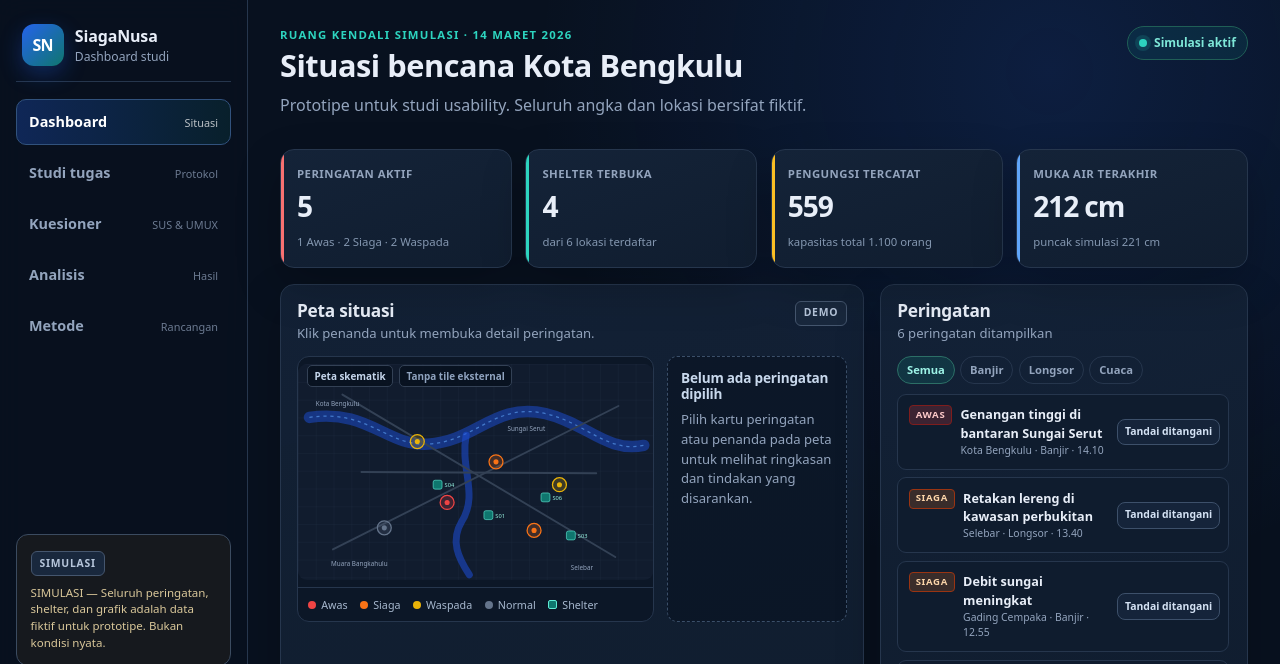
Test: study flow › navigates to the methods page
Click the button "Metode Rancangan" at {"x": 124, "y": 326}, box [16, 303, 231, 348]
(page scrolled)
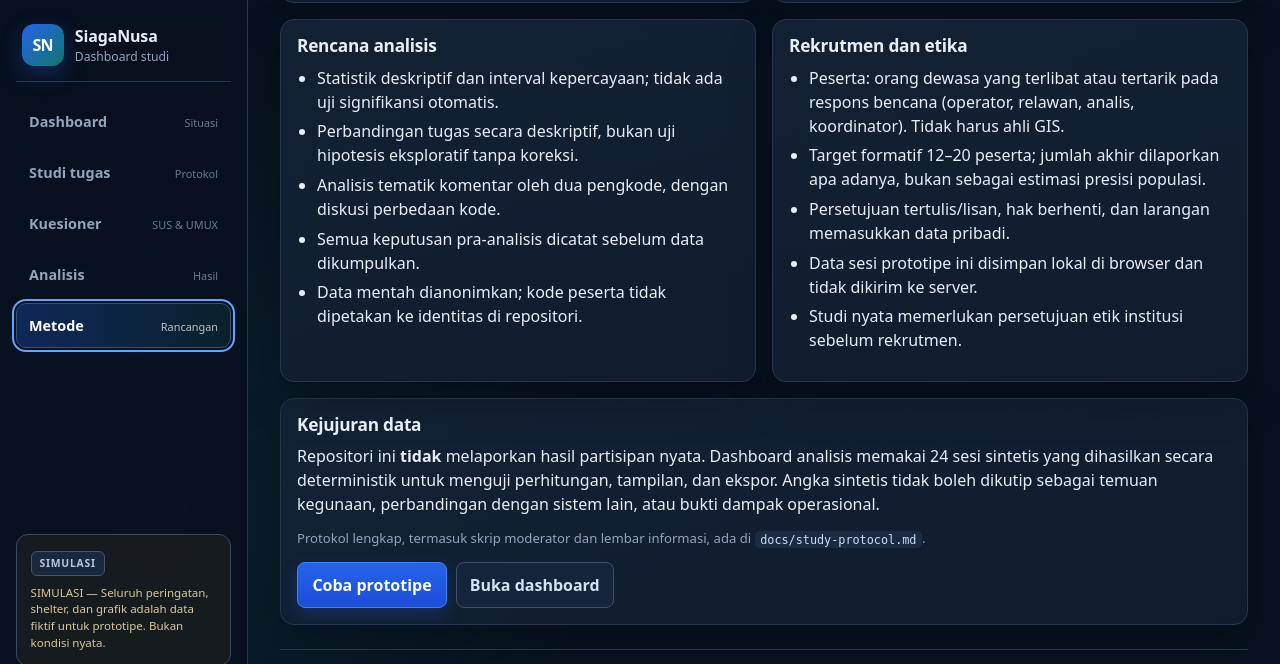
Expected: the heading "Kejujuran data" is shown, [297, 413, 421, 436]
Expected: the text "Dashboard analisis memakai 24 sesi sintetis" is shown, [297, 445, 1213, 515]
